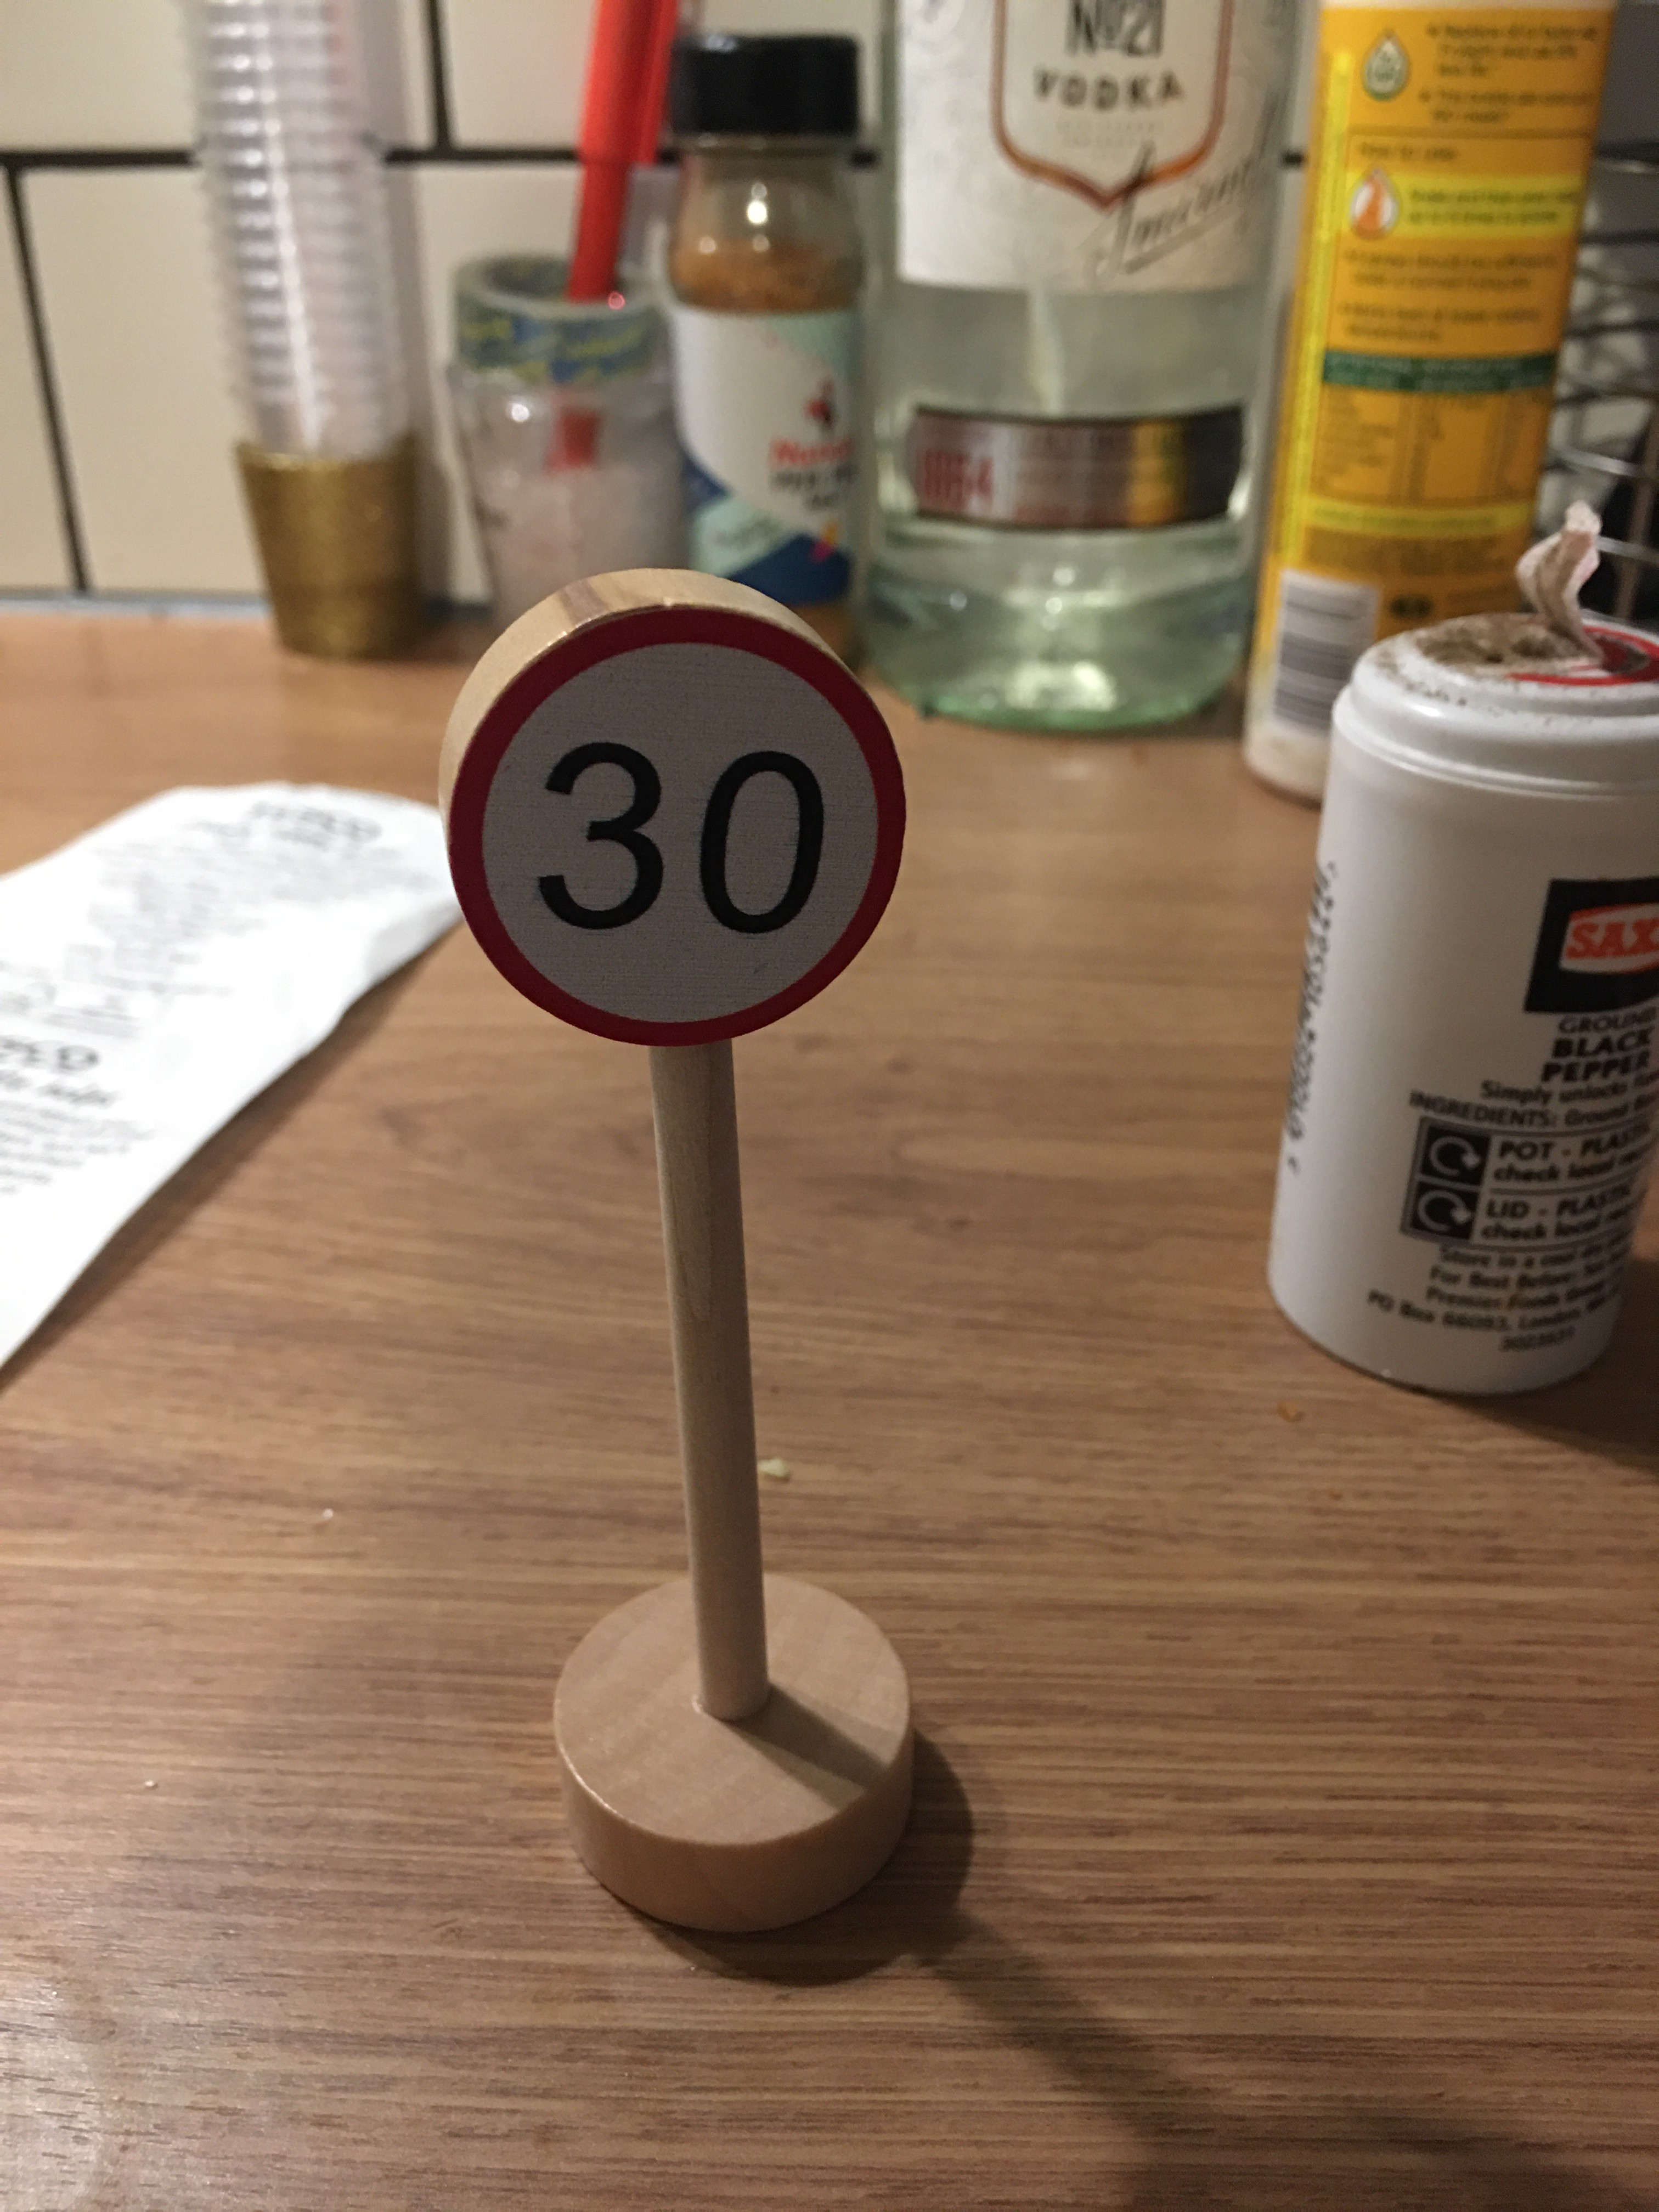Traffic_Sign_30: (469, 606, 906, 1028)
